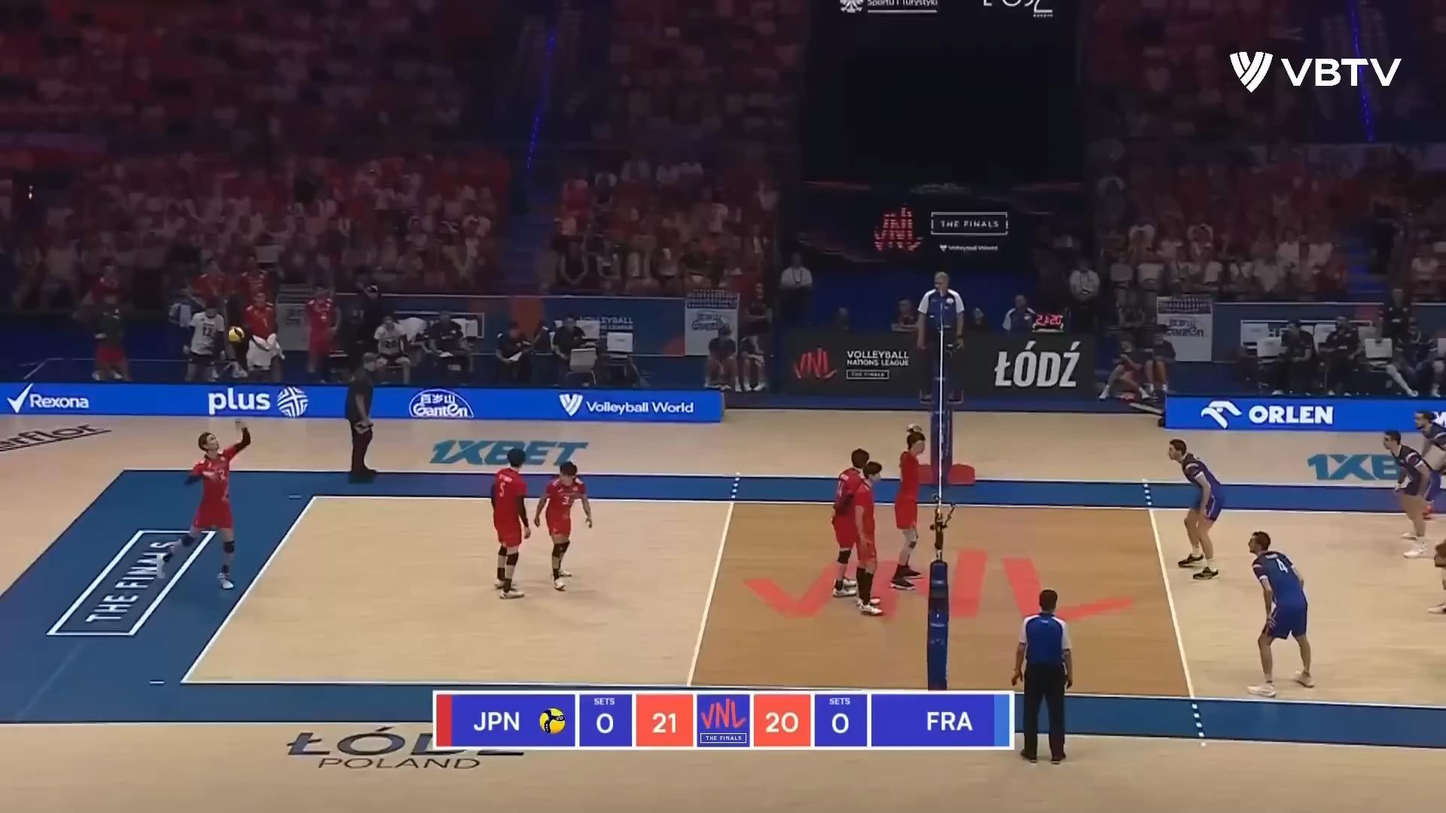ball: (228, 325, 245, 344)
